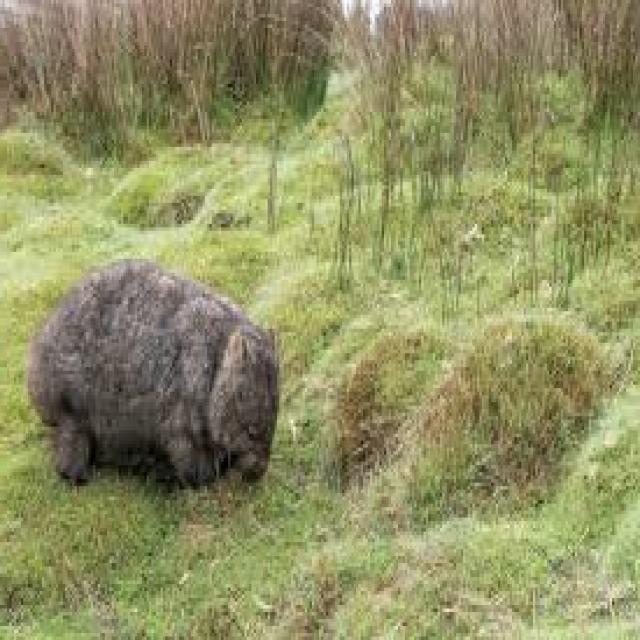wombats: (30, 259, 279, 483)
